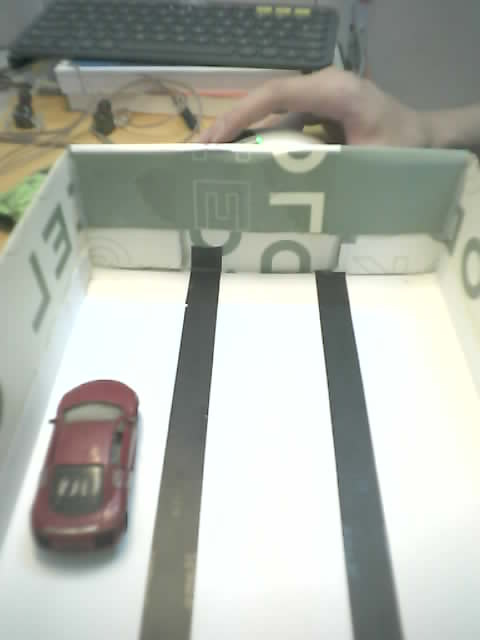vehicle: (30, 379, 141, 574)
